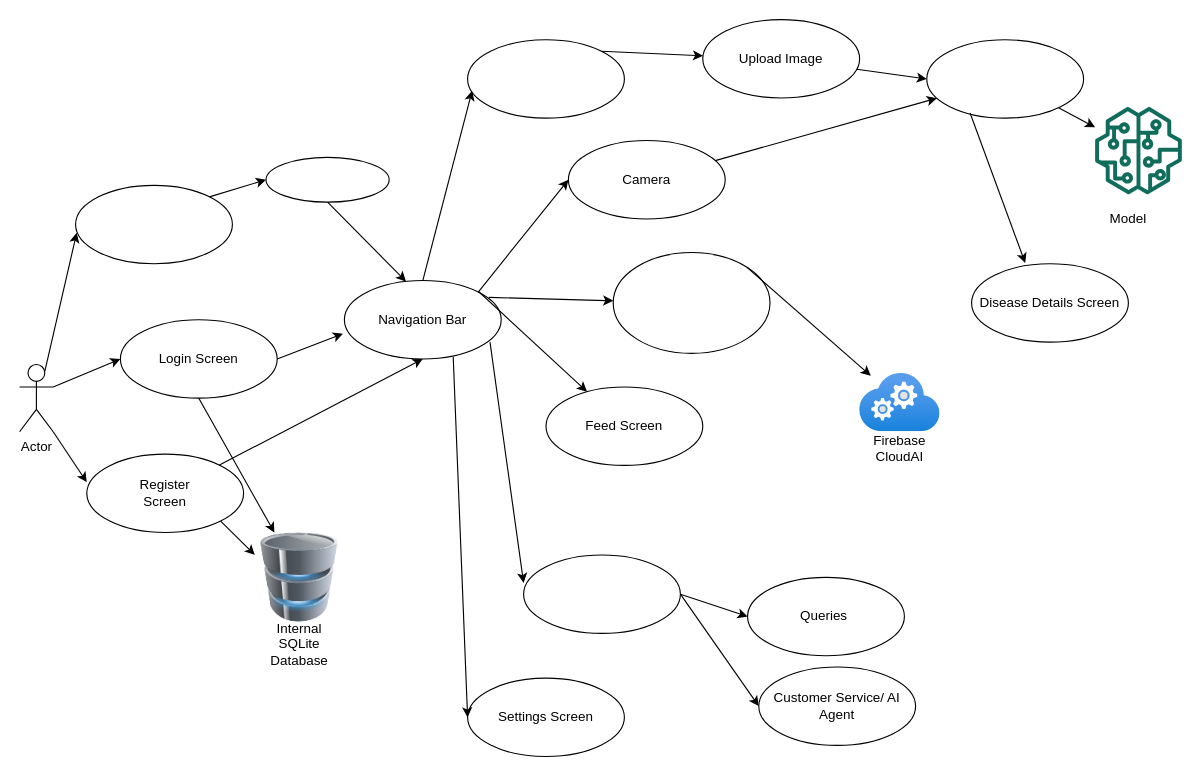
The diagram is 1202 pixels wide and 776 high, and some of its shapes have lost their labels. Here are the shapes that lost their labels. From the top down, the box of each, then its label:
(466, 39, 624, 118): Detect Screen
(926, 39, 1084, 118): Detect Image
(265, 156, 389, 202): Skip
(74, 184, 232, 264): welcome Screen
(612, 251, 770, 353): Firebase
(522, 554, 680, 633): Help Screen
